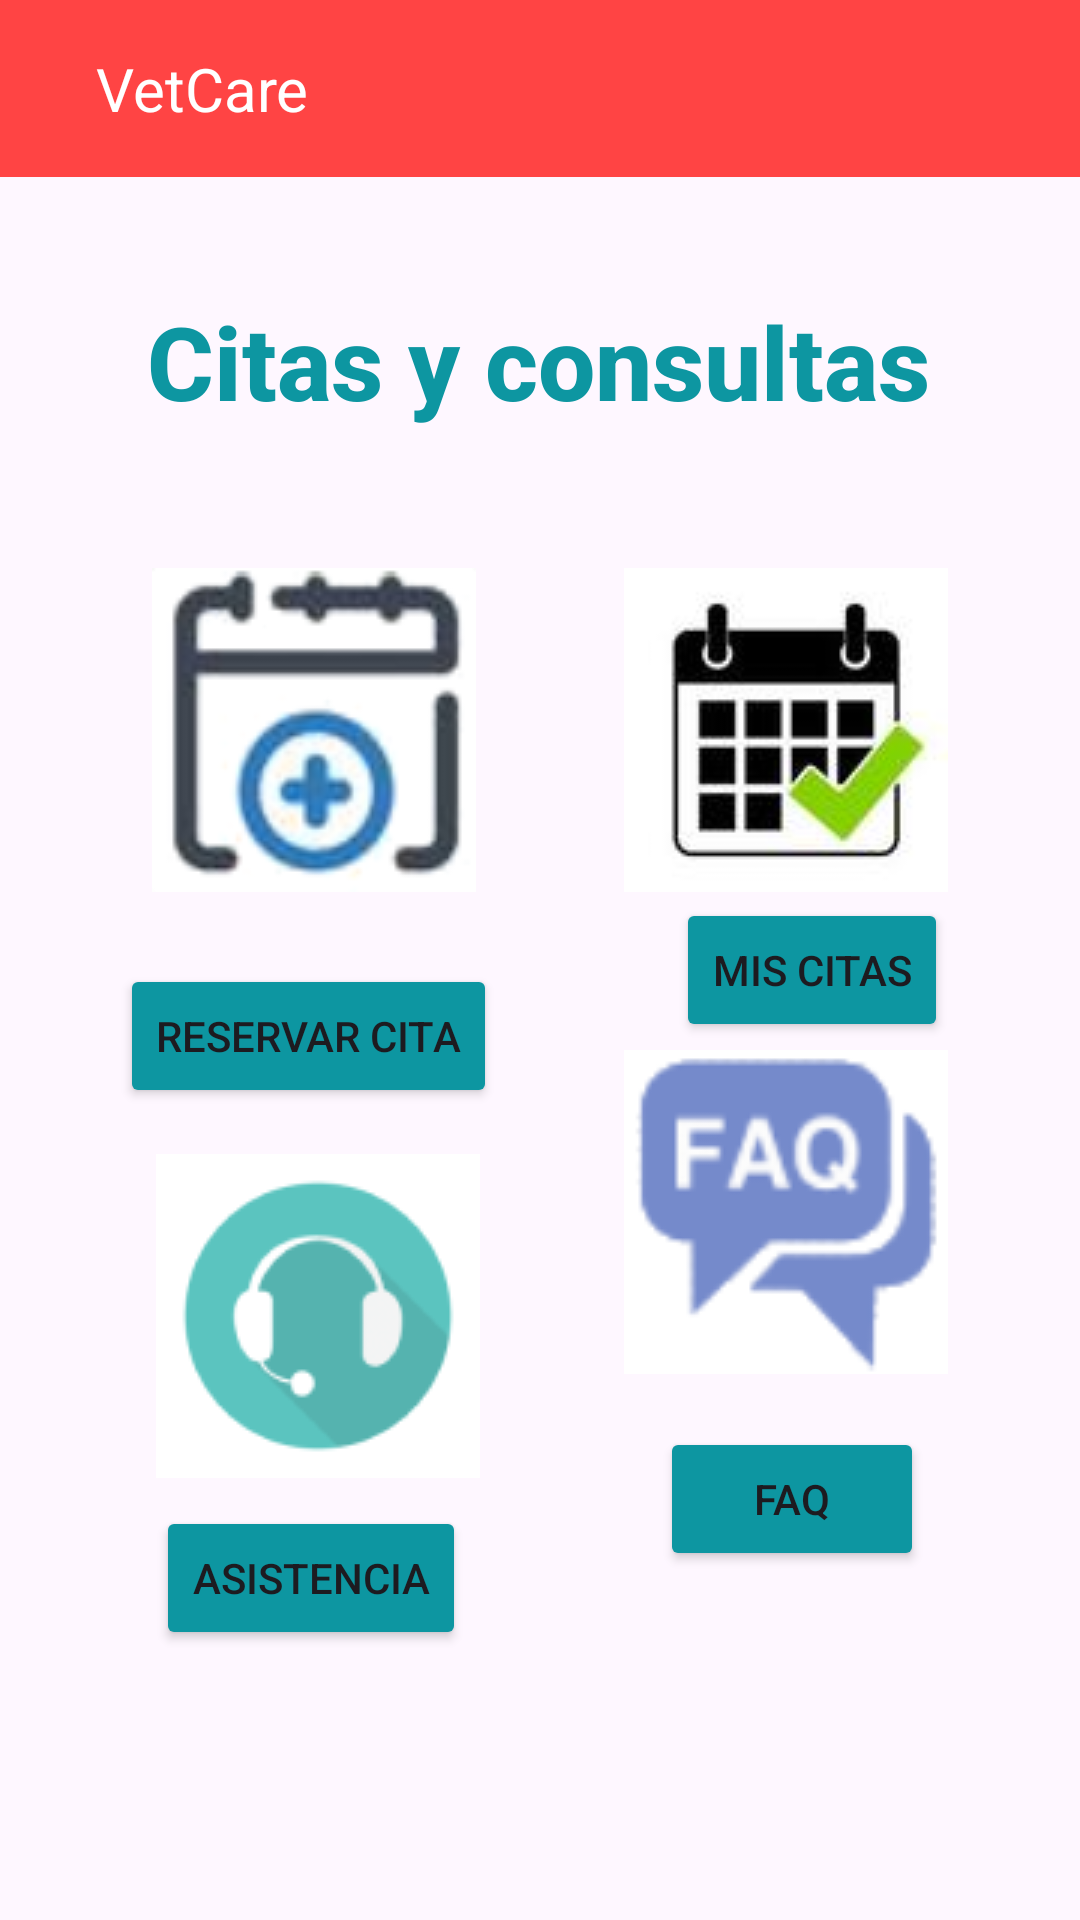

Icons on this 1080x1920 Android screen, each with the point to tap as point (x, y):
help: point (318, 1316)
